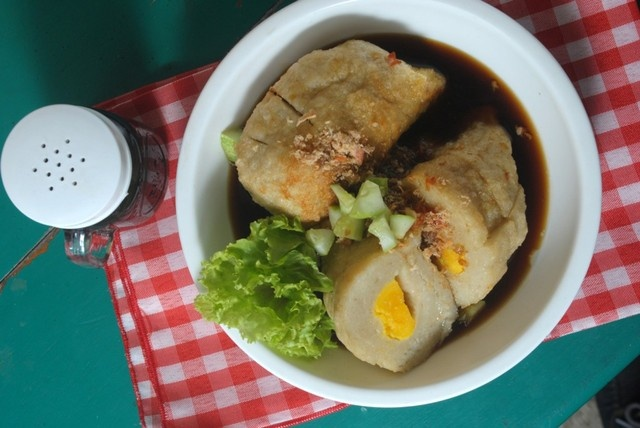pempek: (237, 40, 448, 223)
rendang: (327, 121, 528, 372)
